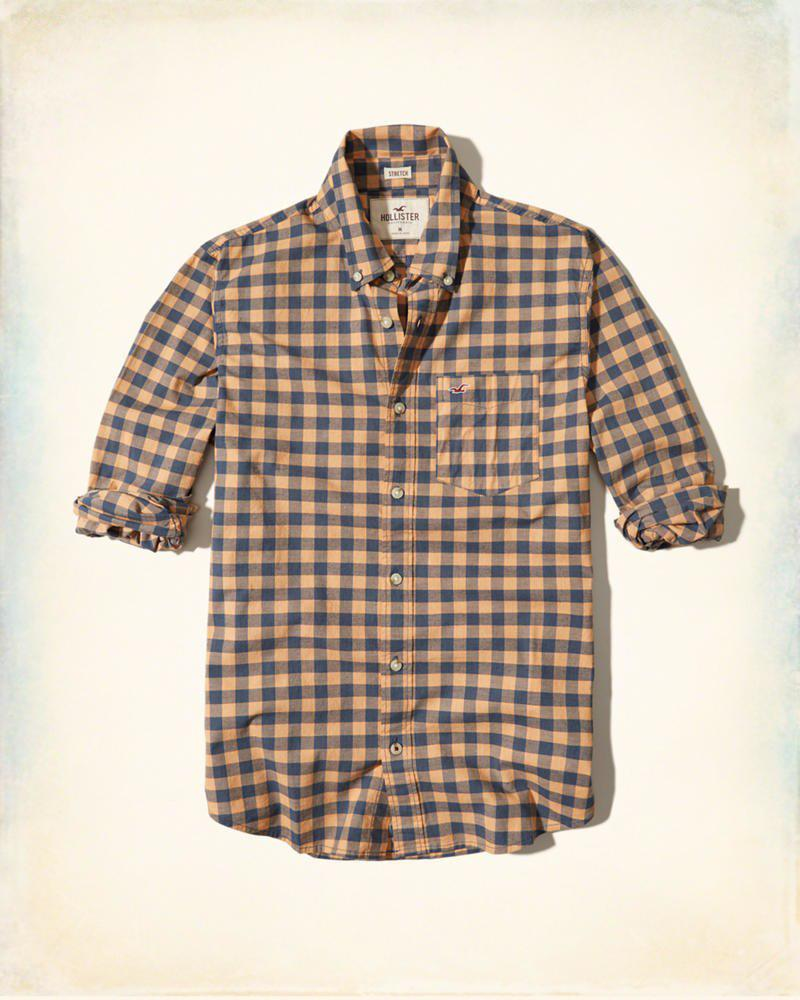teeshirt: (61, 119, 735, 869)
